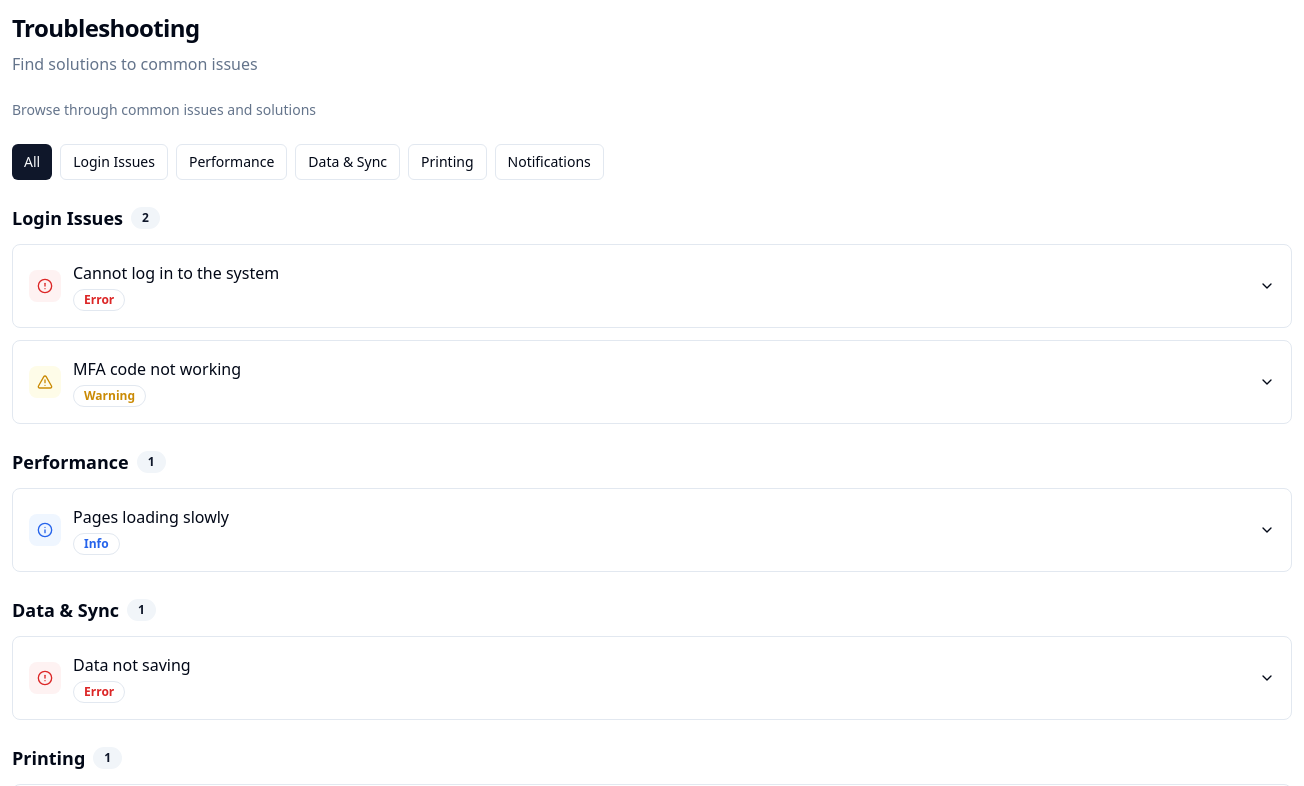
Test: TroubleshootingSection › Accordion Behavior › collapses item when clicked again
Click the text "Cannot log in to the system" at (176, 273), box left=73, top=261, right=279, bottom=285
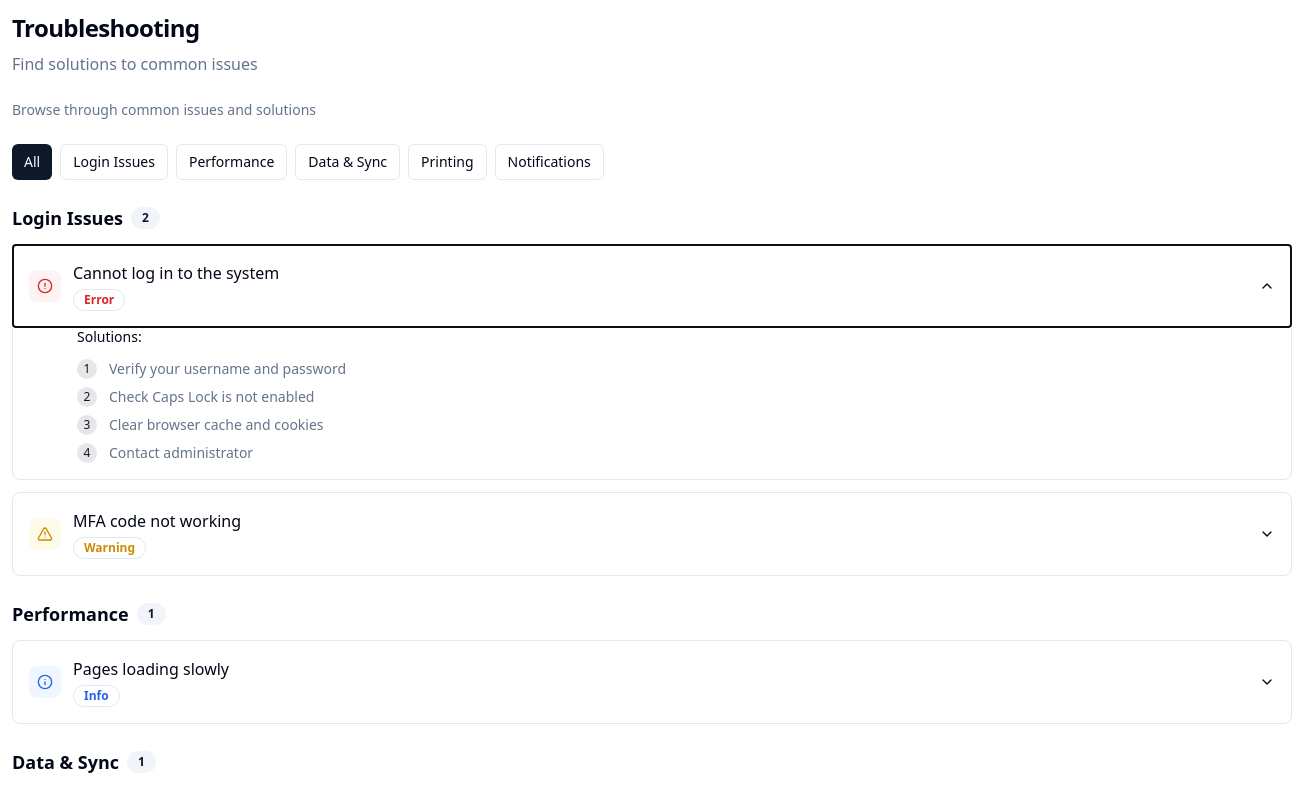
Expected: the text "Verify your username and password" is shown, left=109, top=359, right=346, bottom=379
Click the text "Cannot log in to the system" at (176, 273), box left=73, top=261, right=279, bottom=285
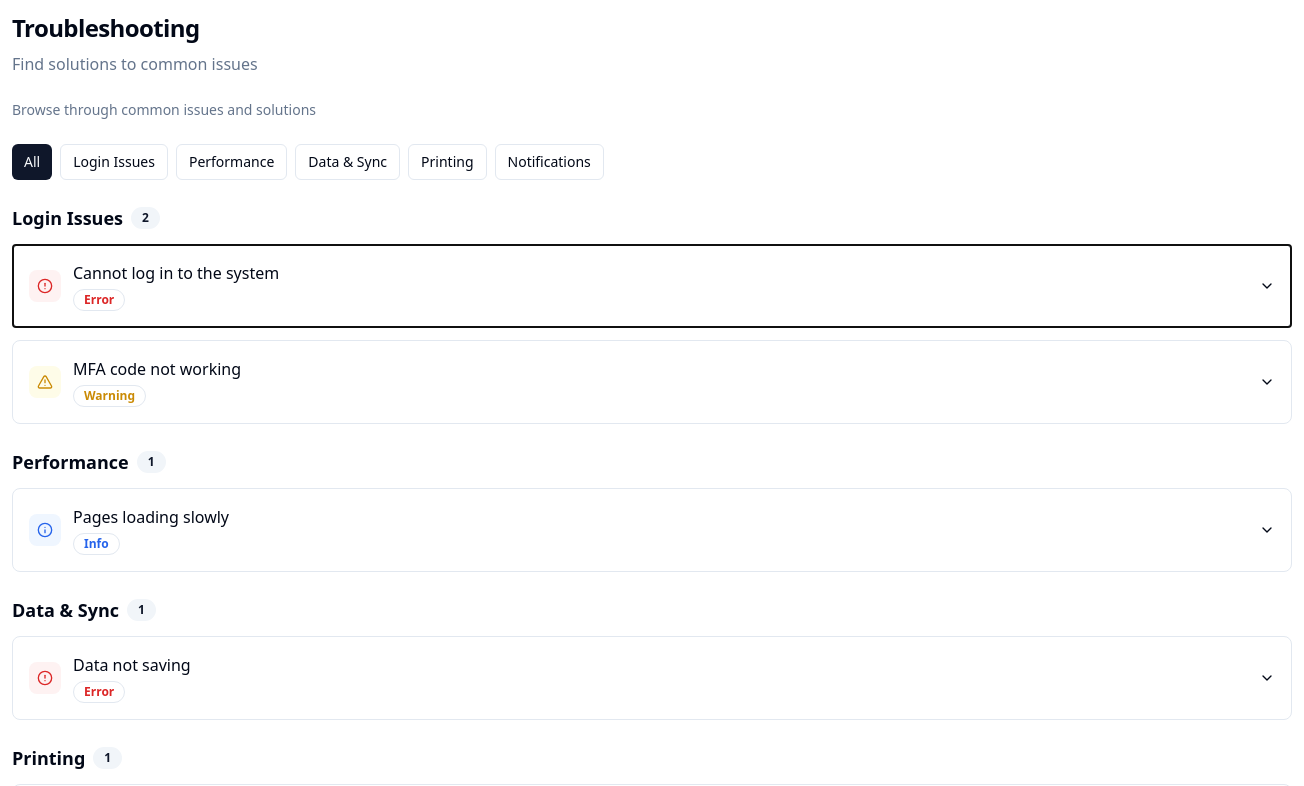
Expected: the text "Verify your username and password" is gone
